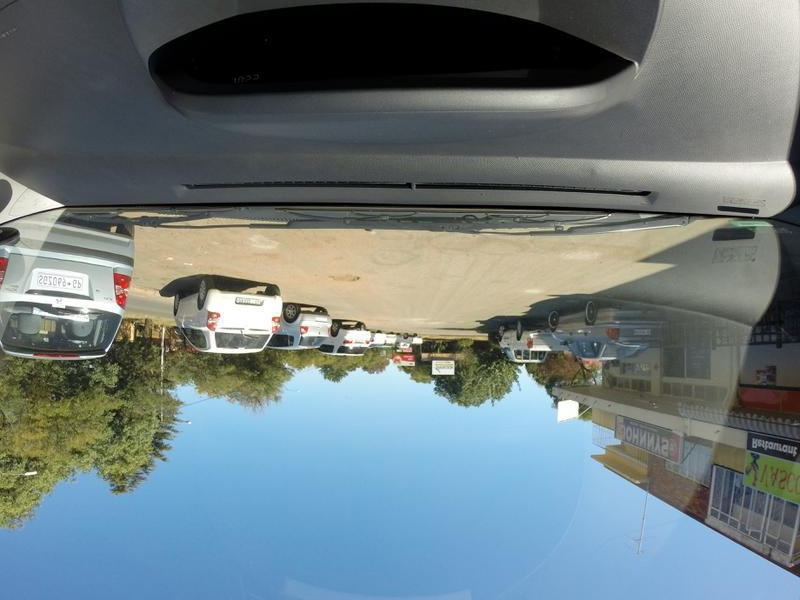pothole: (326, 270, 364, 287)
